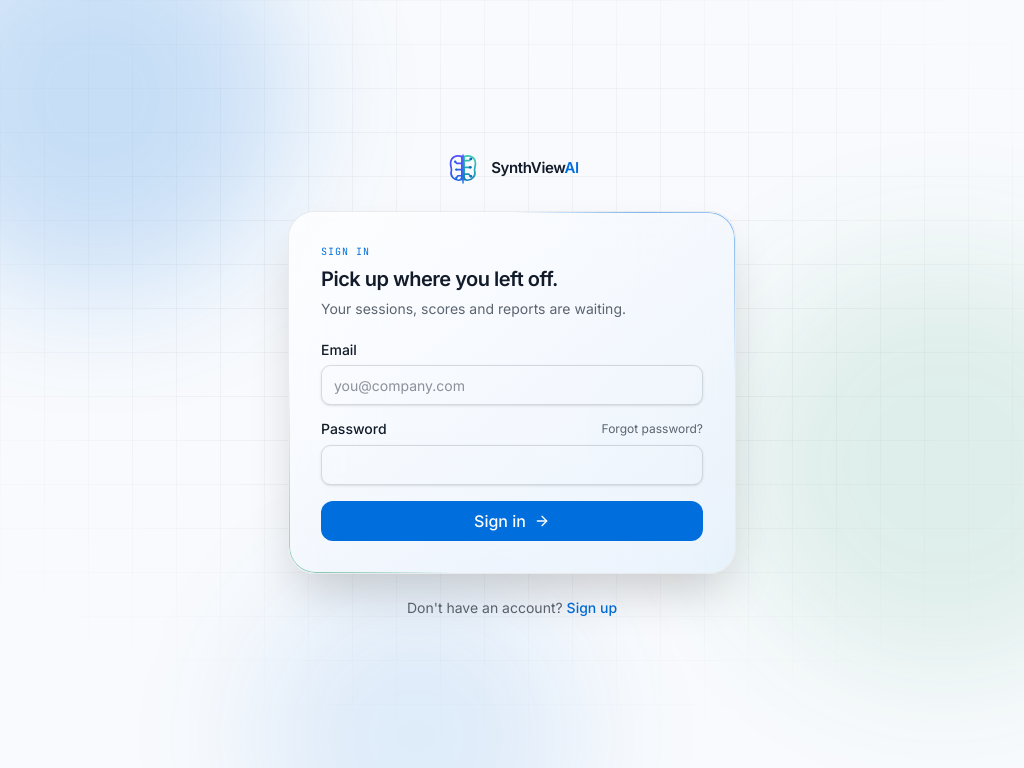
Scenario: Authentication Flow Integration › reports a rejected sign-in without navigating away
Step 1. Type "ada@example.com" into the field labelled "Email" → coordinates (512, 384), box [321, 364, 703, 404]
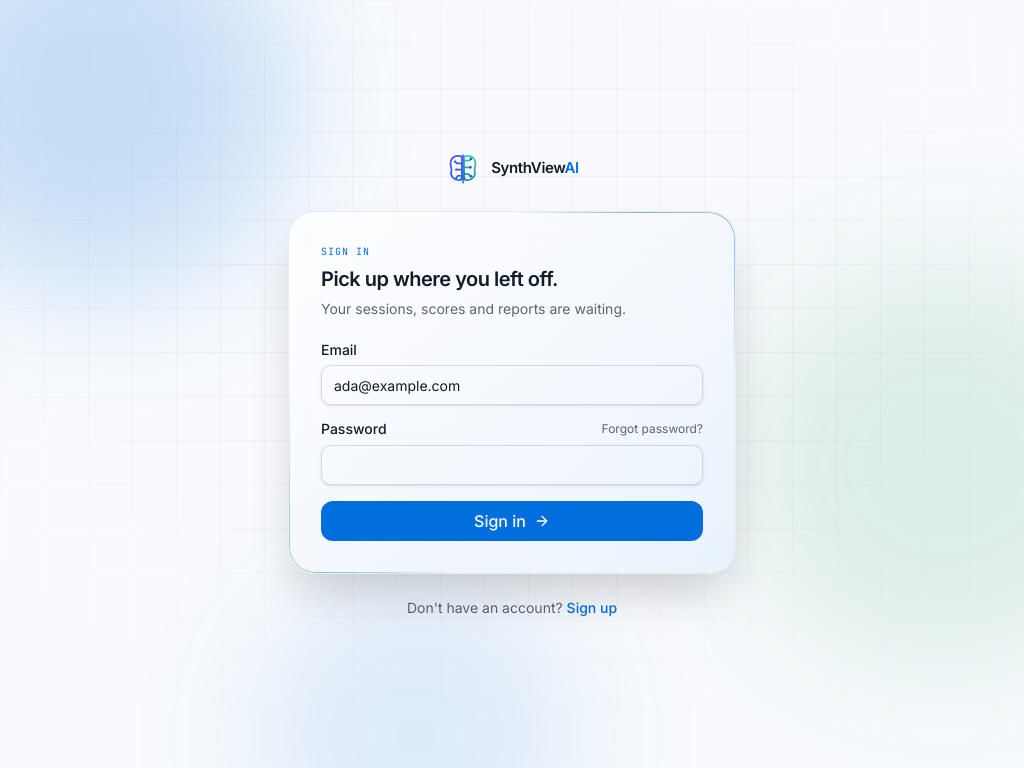
Step 2. Type "wrongpass" into the password field labelled "Password" → coordinates (512, 464), box [321, 444, 703, 484]
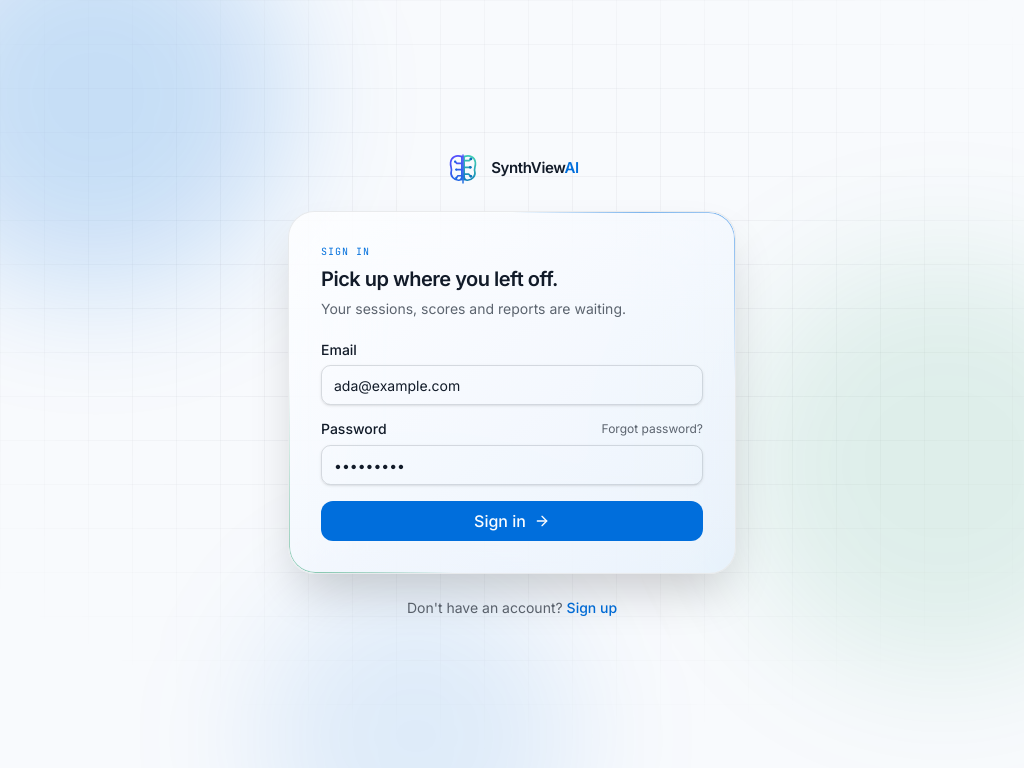
Step 3. Click the button "Sign in" → coordinates (512, 520), box [321, 500, 703, 540]
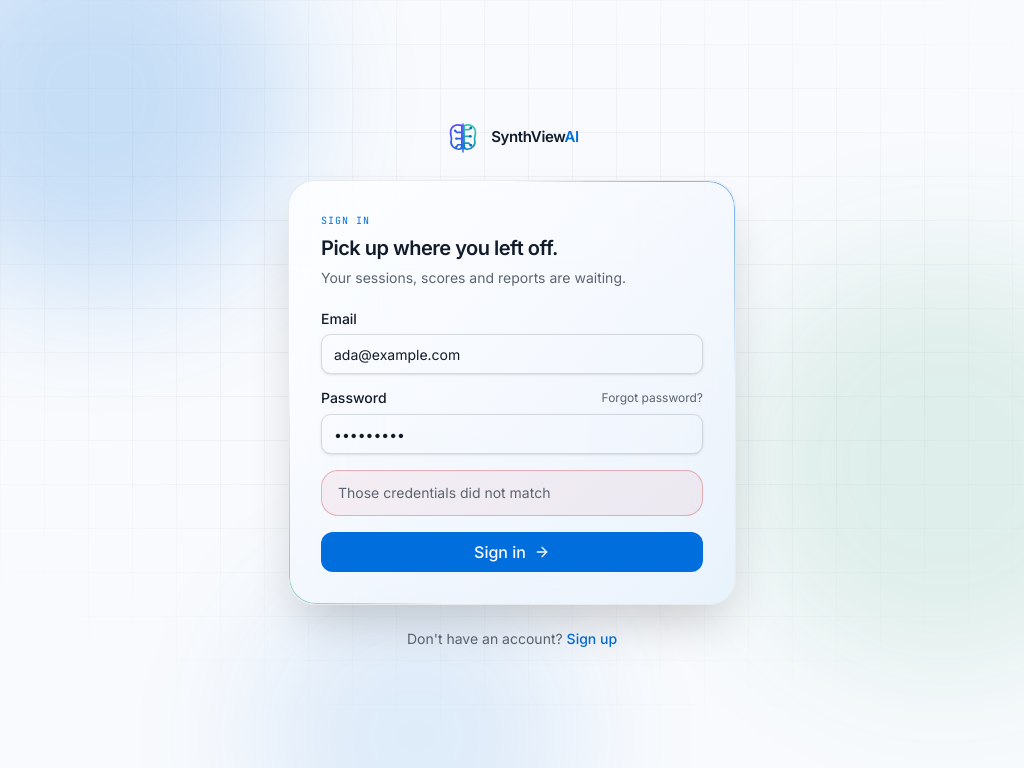
Now the text "Those credentials did not match" is shown, box [338, 484, 550, 500]
